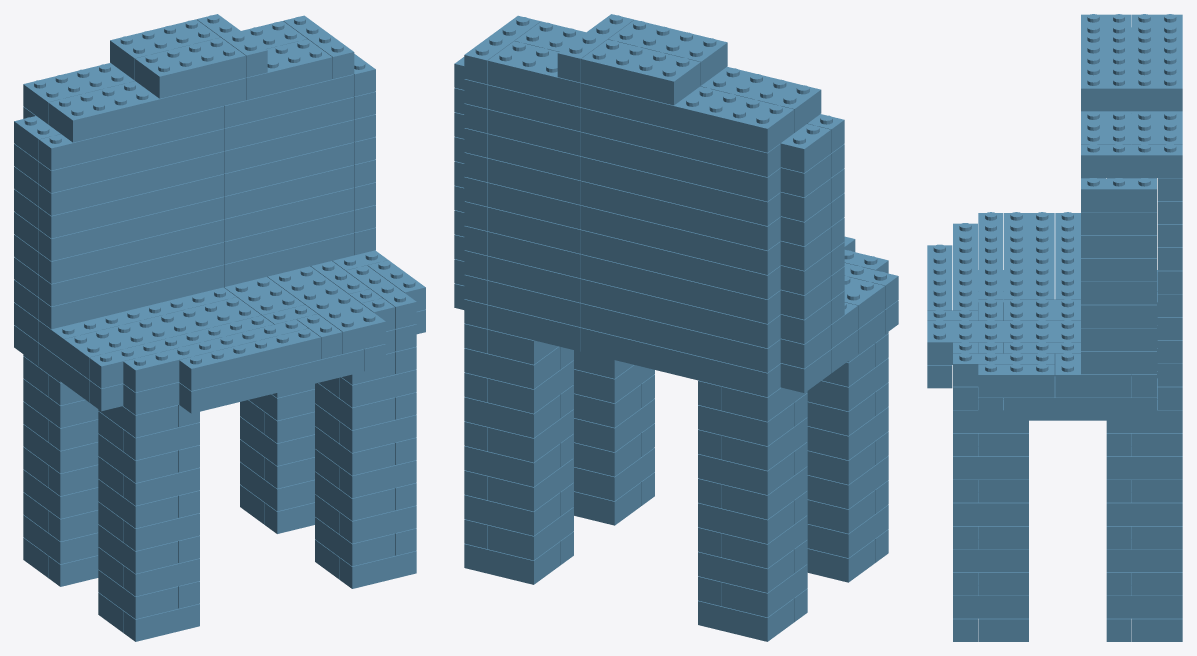
Rendered from 039_bench_L4.glb.
The picture shows the model from 3 angles, left to right: view 1: azimuth 30°, elevation 25°; view 2: azimuth 150°, elevation 25°; view 3: azimuth 270°, elevation 25°; orthographic projection. The views are drawn at different scales.
Bounding box in the file's own units: 14.98 × 22.13 × 9.98.
